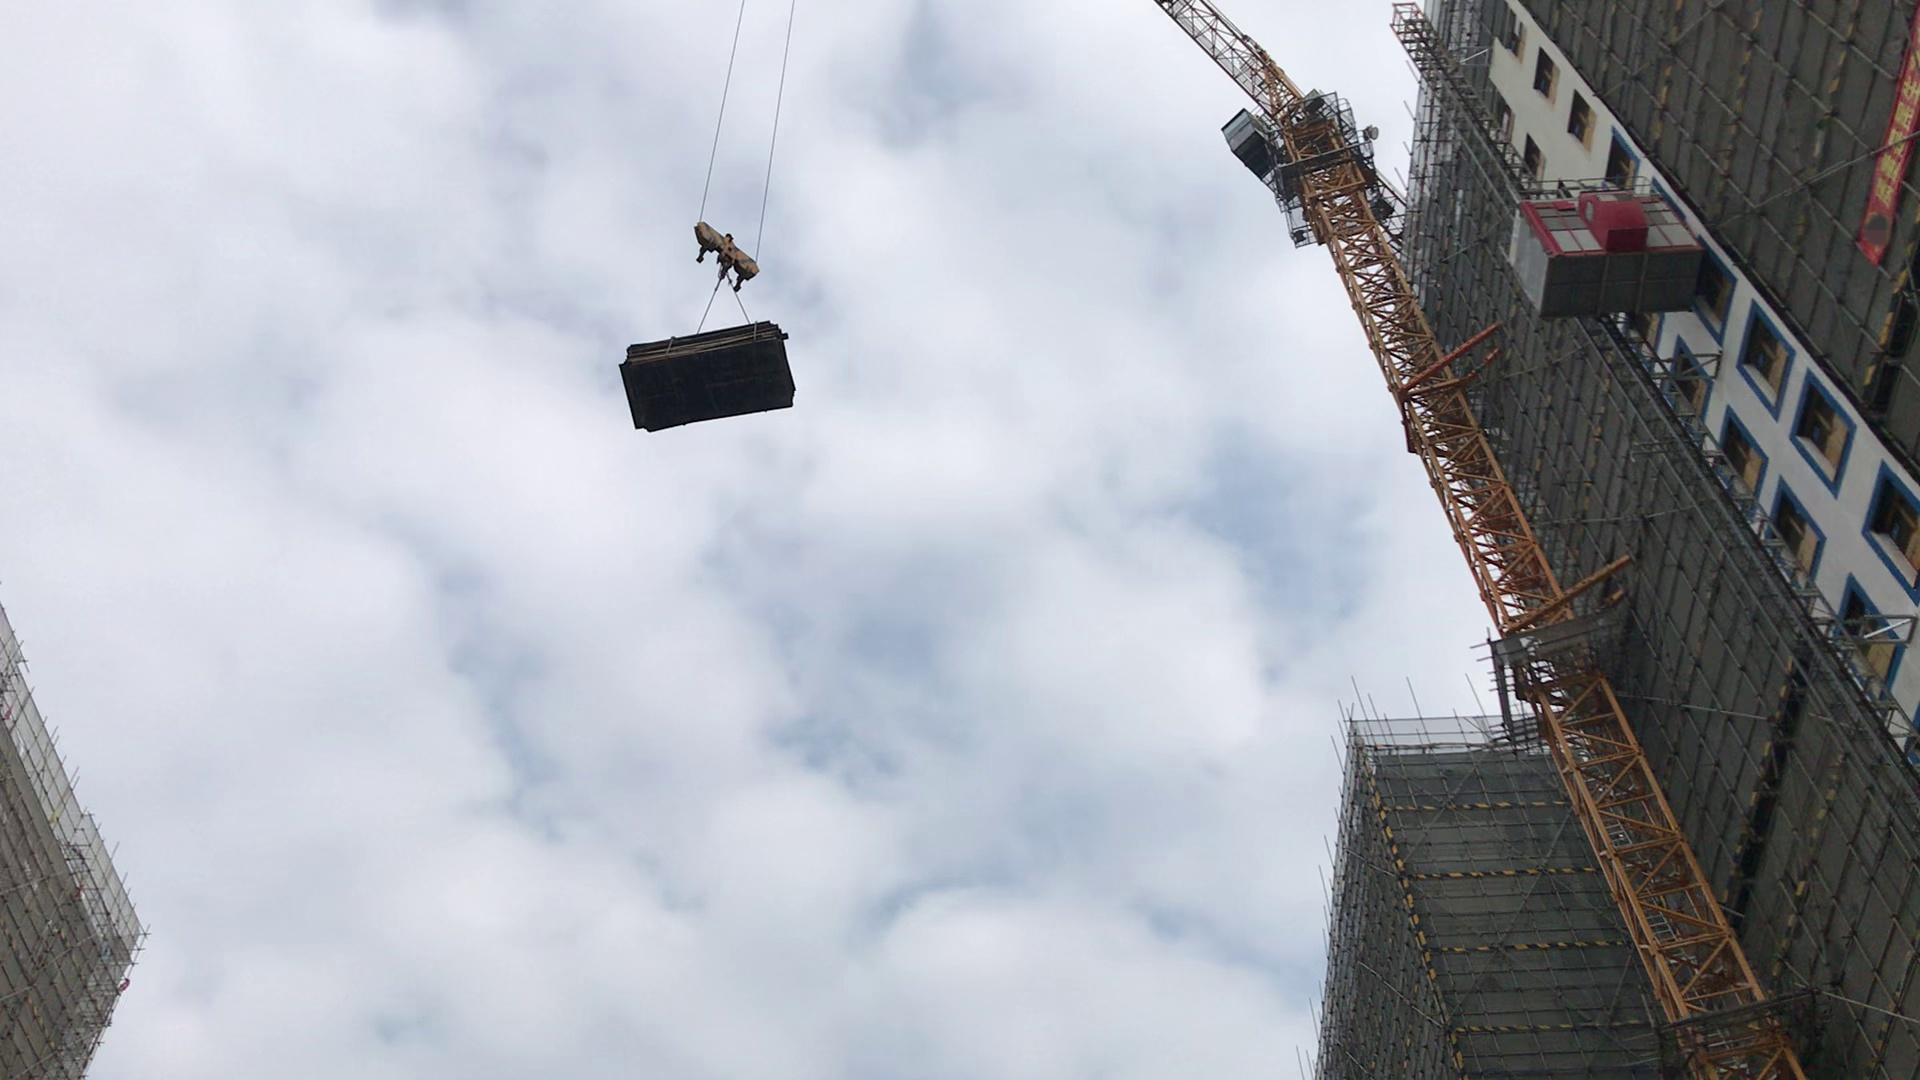board: (589, 316, 829, 454)
hook: (657, 200, 779, 301)
slogan: (1837, 5, 1920, 287)
